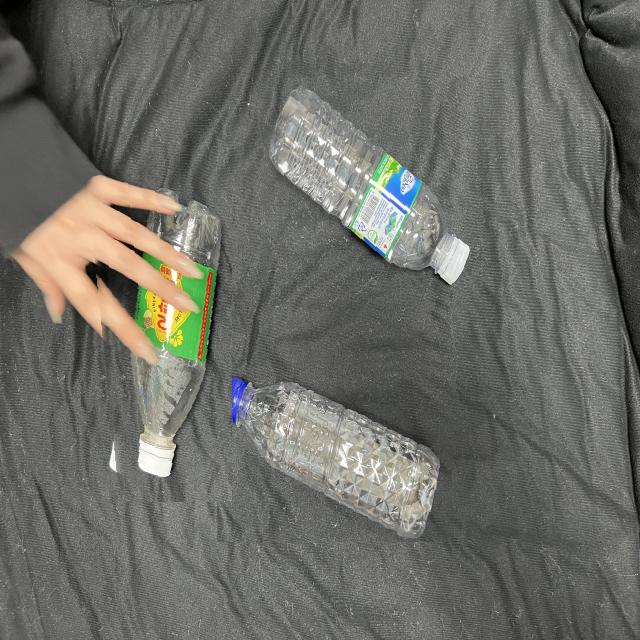plastic bottle: (261, 77, 483, 311), (217, 352, 454, 542), (117, 179, 232, 502)
